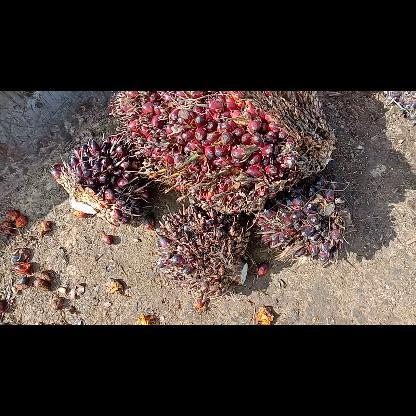TBS abnormal: (52, 136, 156, 226), (155, 206, 257, 288), (259, 190, 353, 266)
TBS masak: (115, 91, 334, 211)
